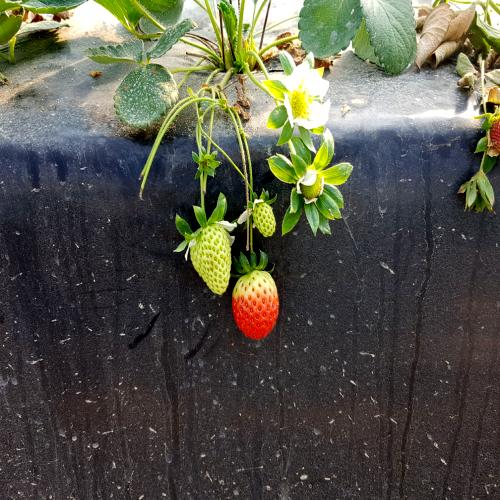partially-ripe: (232, 260, 282, 346)
